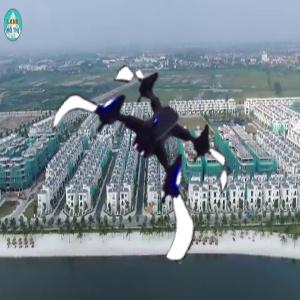drone: (47, 49, 241, 243)
